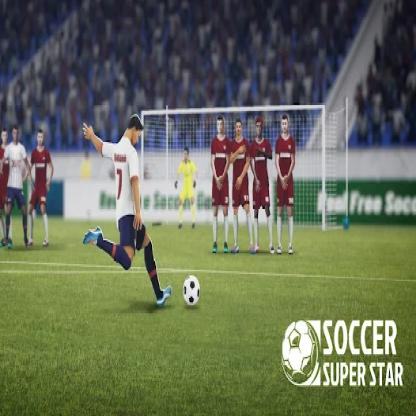ball: (183, 275, 200, 306), (185, 275, 201, 306)
